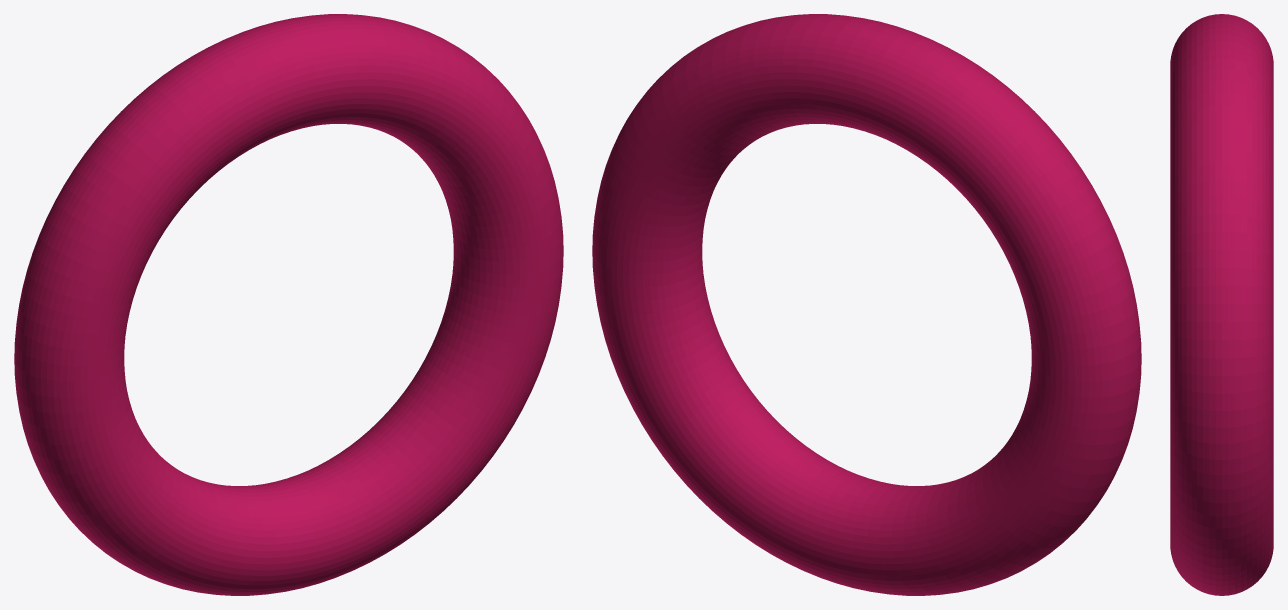
3 views of the same model, side by side, from view 1: azimuth 30°, elevation 25°; view 2: azimuth 150°, elevation 25°; view 3: azimuth 270°, elevation 25° (orthographic). The views are drawn at different scales.
Visible parts, largest first — view 1: world; view 2: world; view 3: world.
Boxes of the visible parts, x1,y1,x2,y2 form: world: (14, 14, 563, 595); world: (592, 14, 1141, 595); world: (1170, 14, 1273, 595).
Size of the model in its own units: 29.2 by 29.2 by 5.19.
